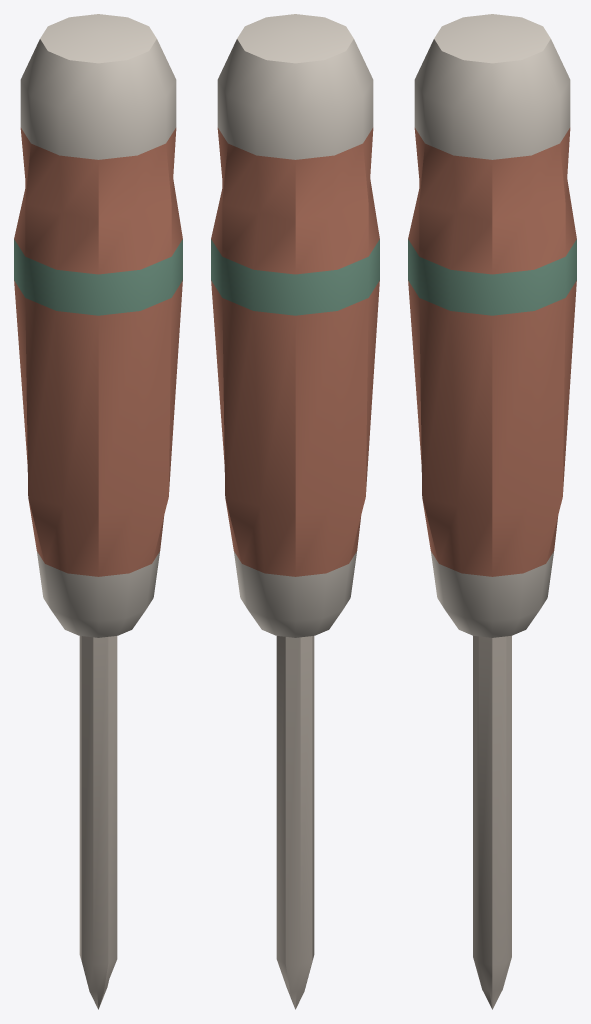
File: cacciavite.glb
3 views of the same model, side by side, from view 1: azimuth 30°, elevation 25°; view 2: azimuth 150°, elevation 25°; view 3: azimuth 270°, elevation 25° (orthographic).
Parts seen in each view (by area): view 1: corpo_cacciavite; view 2: corpo_cacciavite; view 3: corpo_cacciavite.
Part boxes in pixels (box(x1,y1,x2,y2)): corpo_cacciavite: box(14, 14, 182, 1009); corpo_cacciavite: box(211, 14, 379, 1009); corpo_cacciavite: box(408, 14, 576, 1009).
Size of the model in its own units: 0.026 by 0.166 by 0.026.
